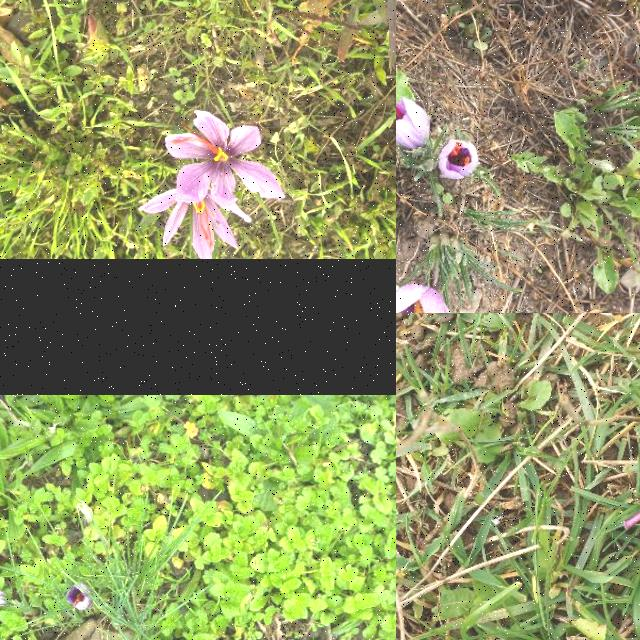flower: (164, 112, 286, 204), (140, 189, 252, 259), (396, 282, 474, 313), (396, 85, 430, 149), (438, 138, 478, 180), (66, 585, 92, 611)
